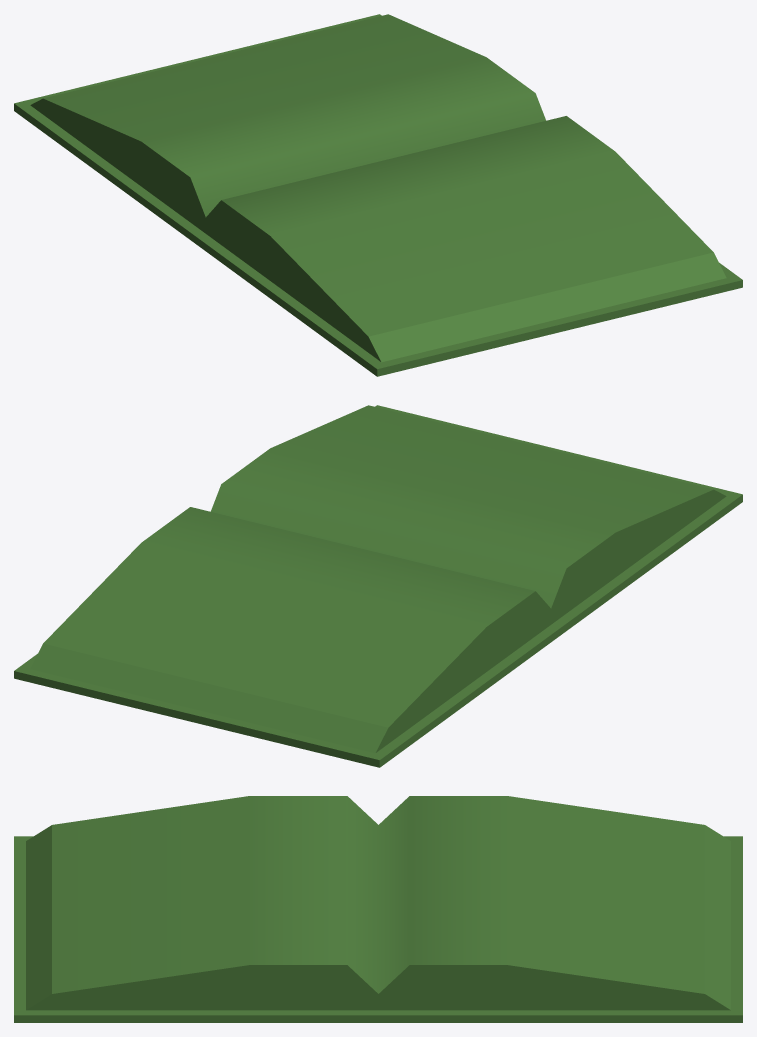
File: LibroAperto.fbx
The picture shows the model from 3 angles, top to bottom: view 1: azimuth 30°, elevation 25°; view 2: azimuth 150°, elevation 25°; view 3: azimuth 270°, elevation 25°; orthographic projection.
Parts seen in each view (by area): view 1: LibroAperto_low; view 2: LibroAperto_low; view 3: LibroAperto_low.
Part boxes in pixels (left/top/right/bottom): LibroAperto_low: left=14, top=14, right=742, bottom=376; LibroAperto_low: left=14, top=405, right=742, bottom=767; LibroAperto_low: left=14, top=796, right=742, bottom=1022.
Bounding box in the file's own units: 50 × 6.88 × 85.99.
